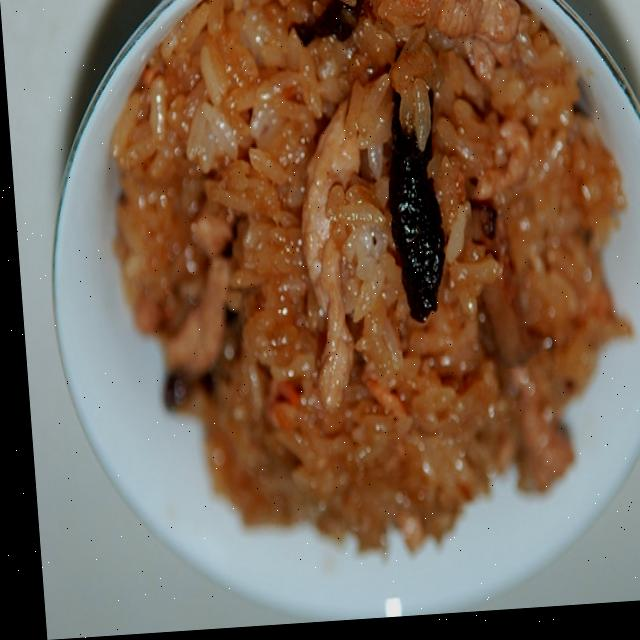米饭主食: (55, 0, 640, 607)
